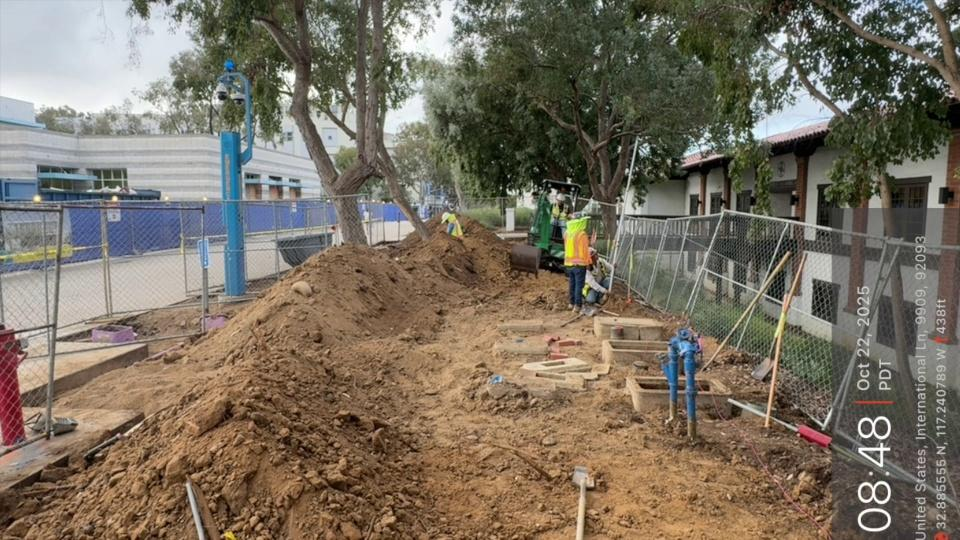Exacavator: (507, 176, 603, 277)
